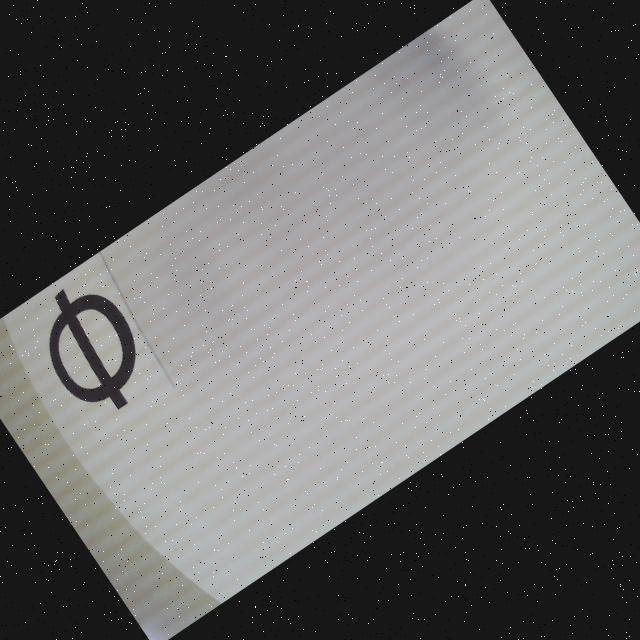PHI: (18, 267, 167, 428)
